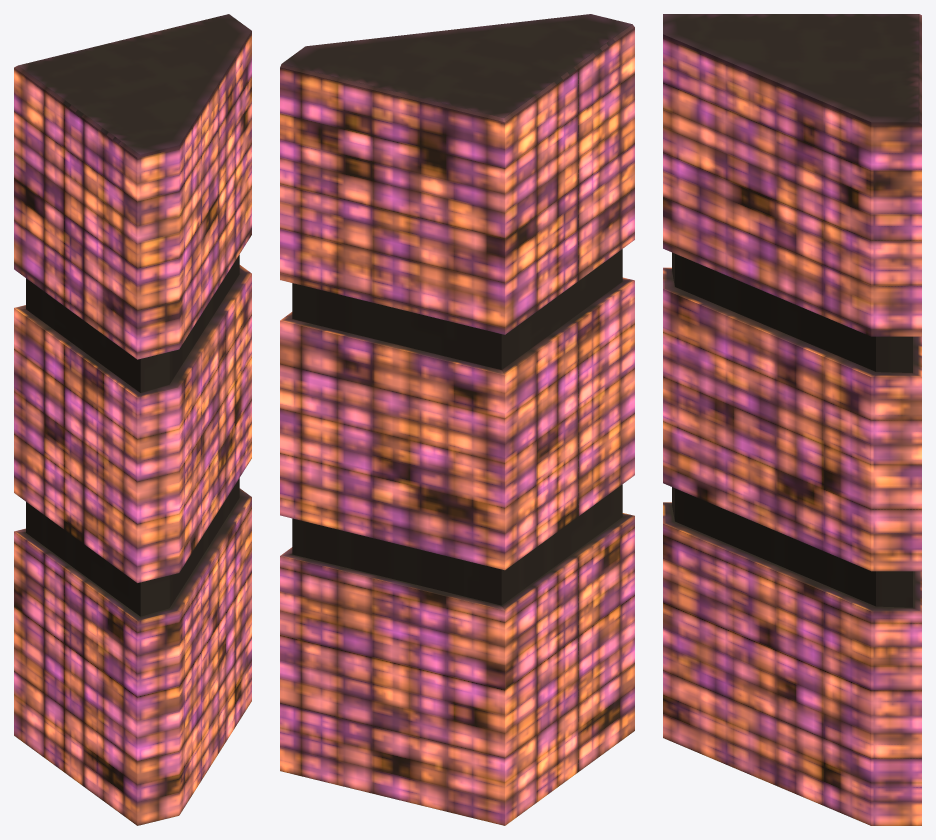
File: BuildingTriangular.fbx
3 renders of one model, left to right at view 1: azimuth 30°, elevation 25°; view 2: azimuth 150°, elevation 25°; view 3: azimuth 270°, elevation 25°, orthographic. The views are drawn at different scales.
Visible parts, largest first — view 1: BuildingTriangular; view 2: BuildingTriangular; view 3: BuildingTriangular.
Part boxes in pixels (x1=…): BuildingTriangular: x1=14, y1=14, x2=251, y2=825; BuildingTriangular: x1=280, y1=14, x2=634, y2=825; BuildingTriangular: x1=663, y1=14, x2=921, y2=825.
Size of the model in its own units: 200 by 600 by 200.
